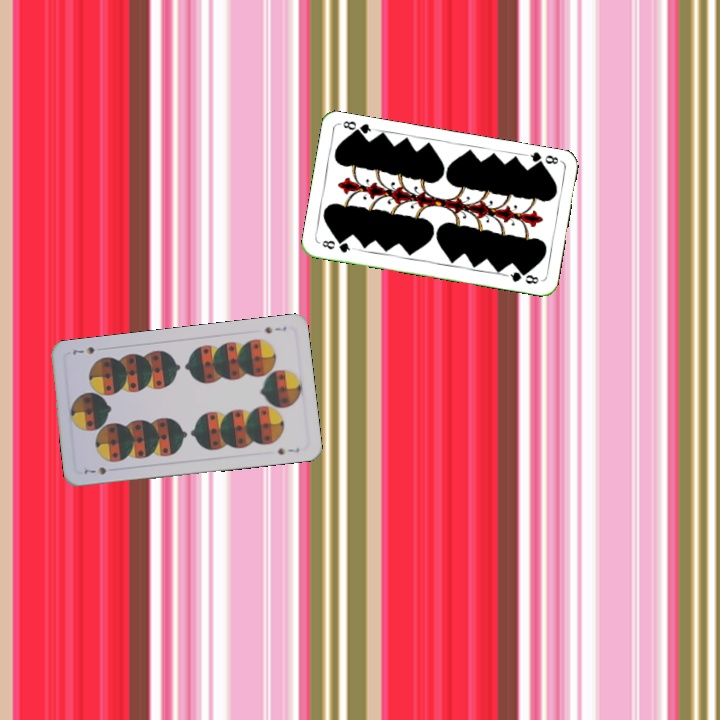G8: (522, 148, 563, 170), (318, 236, 356, 255)
S7: (80, 463, 109, 477), (260, 322, 289, 336)
